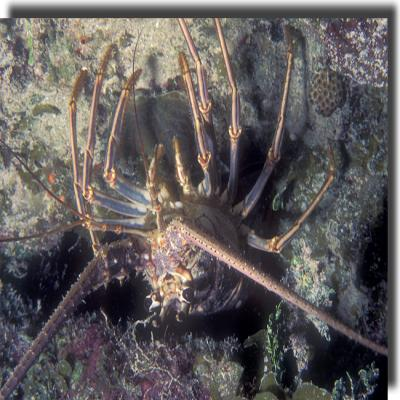lobster: (94, 84, 270, 326)
